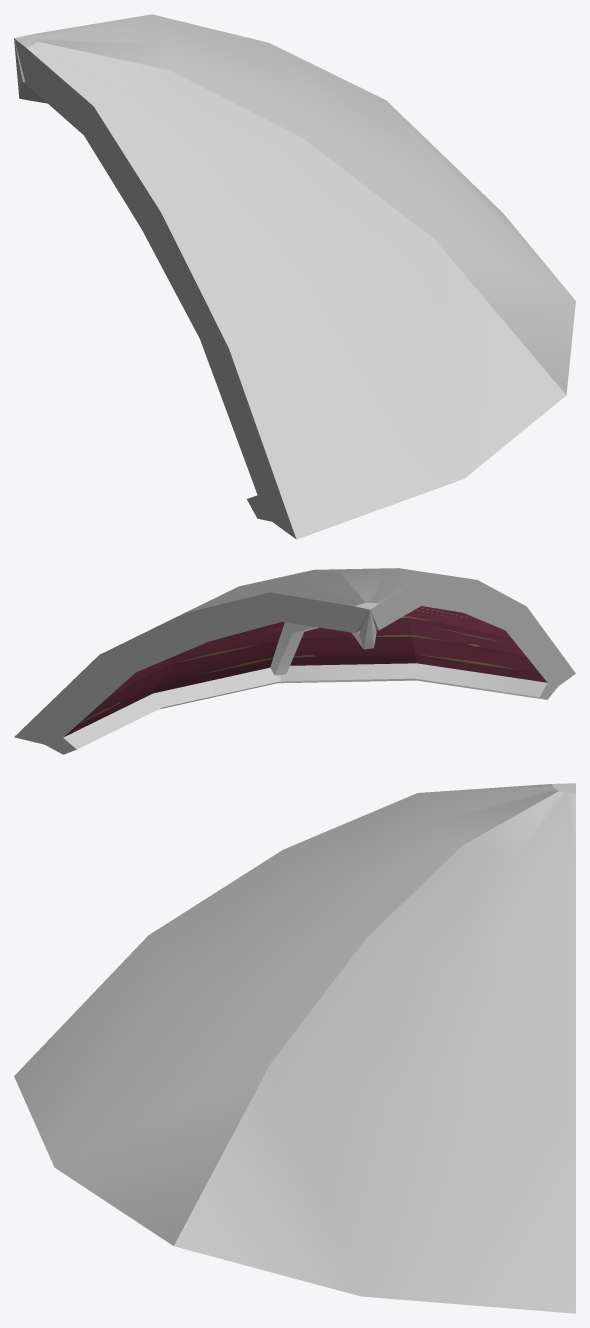
The model's file is SM_Bld_Roof_M_Convex_Corner_Out_02.fbx.
3 renders of one model, top to bottom at view 1: azimuth 30°, elevation 25°; view 2: azimuth 150°, elevation 25°; view 3: azimuth 270°, elevation 25°, orthographic. The views are drawn at different scales.
Visible parts, largest first — view 1: SM_Bld_Roof_M_Convex_Corner_Out_02; view 2: SM_Bld_Roof_M_Convex_Corner_Out_02; view 3: SM_Bld_Roof_M_Convex_Corner_Out_02.
Boxes of the visible parts, bbox=[...] form: SM_Bld_Roof_M_Convex_Corner_Out_02: bbox=[14, 14, 575, 539]; SM_Bld_Roof_M_Convex_Corner_Out_02: bbox=[14, 568, 575, 754]; SM_Bld_Roof_M_Convex_Corner_Out_02: bbox=[14, 783, 575, 1313].
Size of the model in its own units: 261 by 154 by 261.
